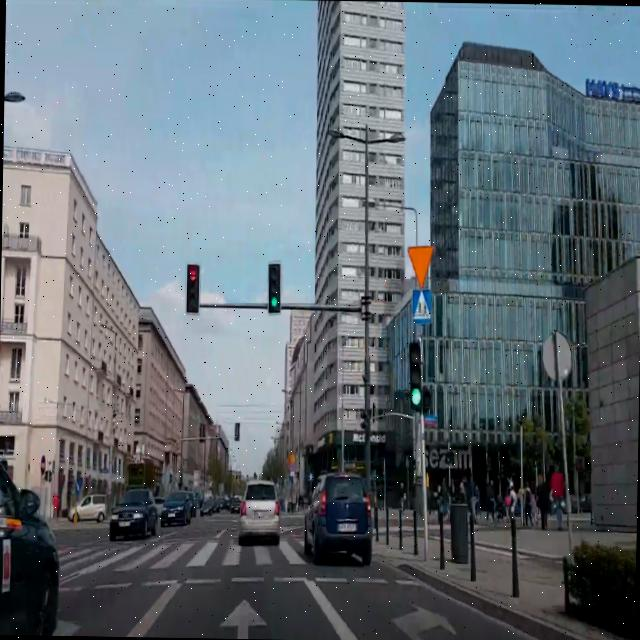Ustap pierwszenstwa: (406, 245, 436, 288)
Zakaz wjazdu: (40, 454, 46, 474)
